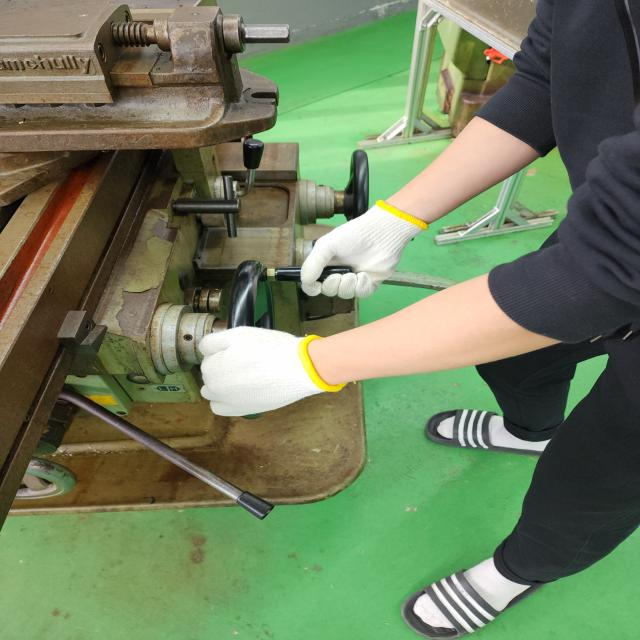Boots: (198, 324, 346, 414), (300, 200, 430, 300)
